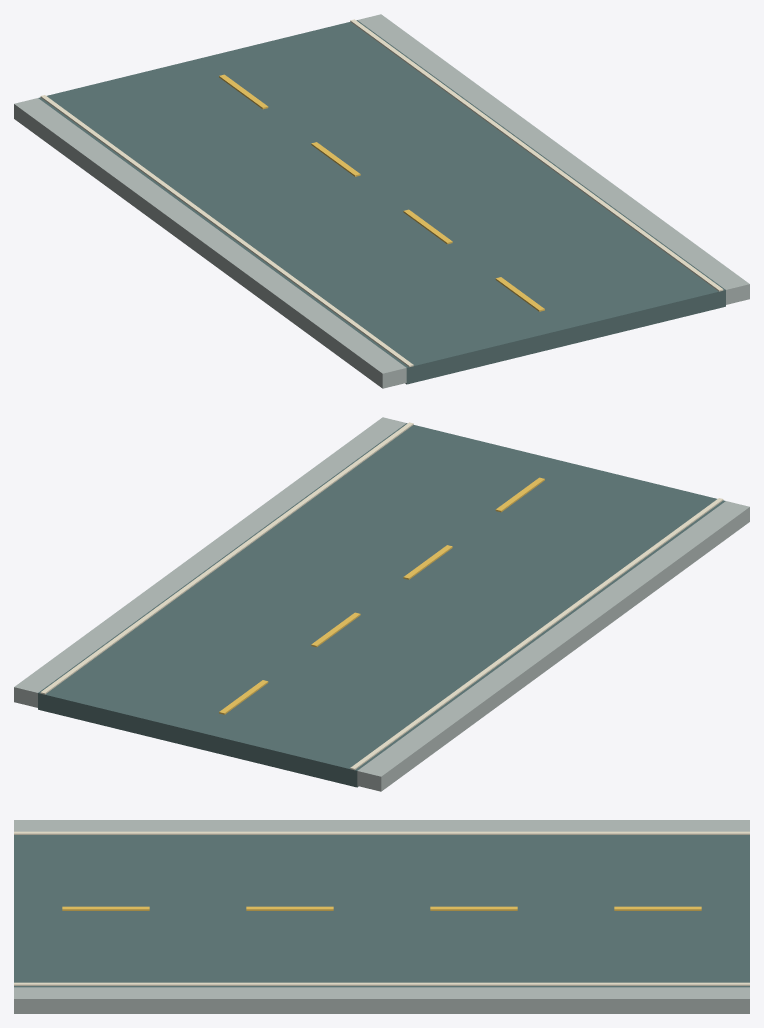
The model's file is road_straight.glb.
The picture shows the model from 3 angles, top to bottom: view 1: azimuth 30°, elevation 25°; view 2: azimuth 150°, elevation 25°; view 3: azimuth 270°, elevation 25°; orthographic projection.
Visible parts, largest first — view 1: road_straight.Root_Asphalt, road_straight.Root_Concrete, road_straight.Root_Cream, road_straight.Root_Yellow; view 2: road_straight.Root_Asphalt, road_straight.Root_Concrete, road_straight.Root_Cream, road_straight.Root_Yellow; view 3: road_straight.Root_Asphalt, road_straight.Root_Concrete, road_straight.Root_Cream, road_straight.Root_Yellow.
Boxes of the visible parts, box(x1,y1,x2,y2) form: road_straight.Root_Asphalt: box(38, 20, 725, 384); road_straight.Root_Concrete: box(14, 14, 749, 388); road_straight.Root_Cream: box(40, 19, 723, 367); road_straight.Root_Yellow: box(219, 74, 544, 311); road_straight.Root_Asphalt: box(38, 423, 725, 787); road_straight.Root_Concrete: box(14, 417, 749, 791); road_straight.Root_Cream: box(40, 422, 723, 770); road_straight.Root_Yellow: box(219, 477, 544, 714); road_straight.Root_Asphalt: box(14, 835, 749, 987); road_straight.Root_Concrete: box(14, 820, 749, 1013); road_straight.Root_Cream: box(14, 831, 749, 985); road_straight.Root_Yellow: box(62, 906, 701, 910).
Size of the model in its own units: 4.6 by 0.218 by 8.
